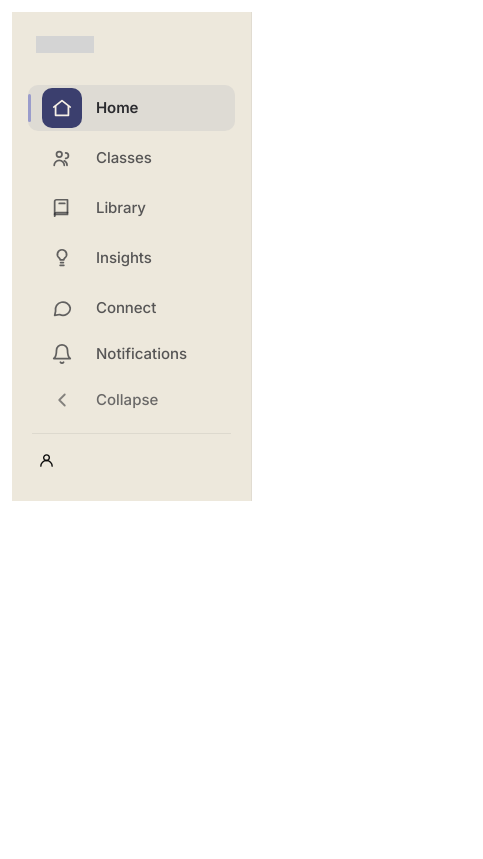
Test: its header › says only what is known - a school without a name
This screenshot has width=483, height=859.
Step 1. Click the button named "Account menu" → (132, 460), box [28,444,235,477]
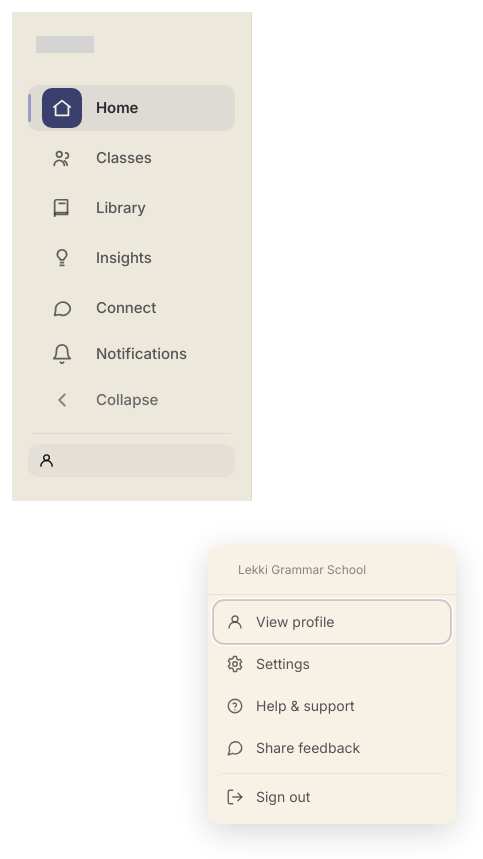
Check: the text "Lekki Grammar School" is shown, box [238,562,366,578]
